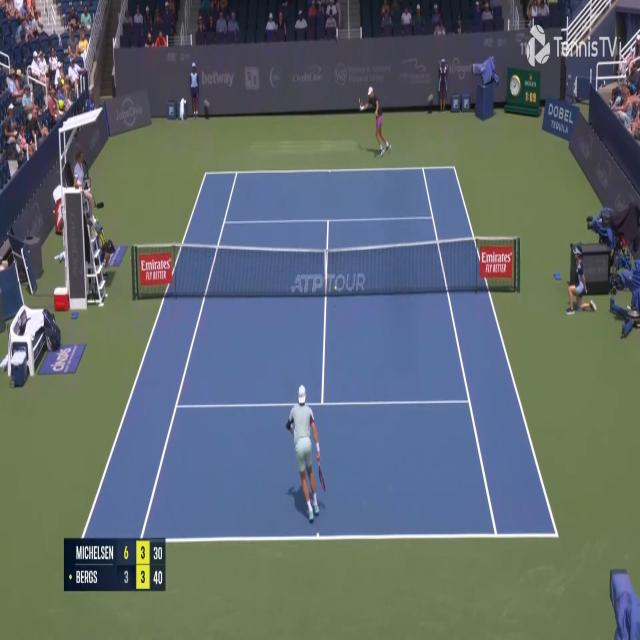tennis-player: (284, 382, 326, 528), (358, 83, 392, 159)
